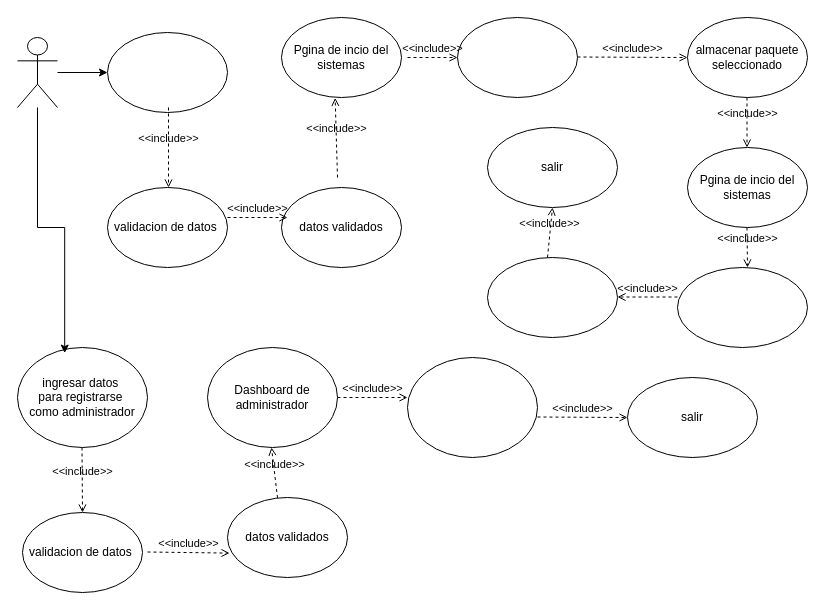
The diagram is 825 pixels wide and 610 high, and some of its shapes have lost their labels. Each missing label, with the centre of its shape:
Actor: (37,72)
guardar cambios: (552,297)
ingresar datos para registrarse como usuario: (167,72)
mostrar paquetes turisticos disponibles: (517,57)
opcion de modificar paquete seleccionado: (742,307)
opciones de modificacion de paquetes de viajes: (472,407)
